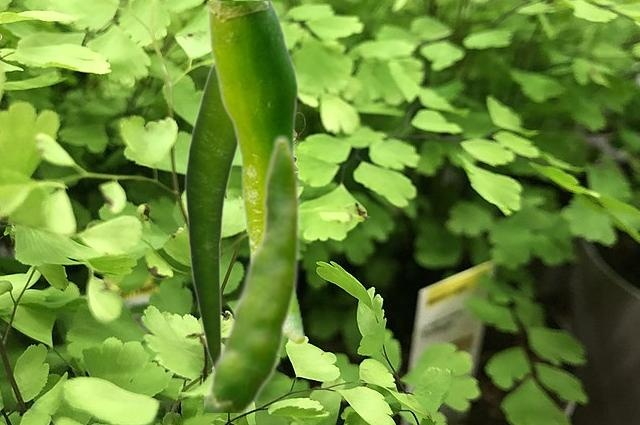green_chili: (207, 1, 303, 343), (204, 133, 301, 411), (184, 64, 237, 364)
